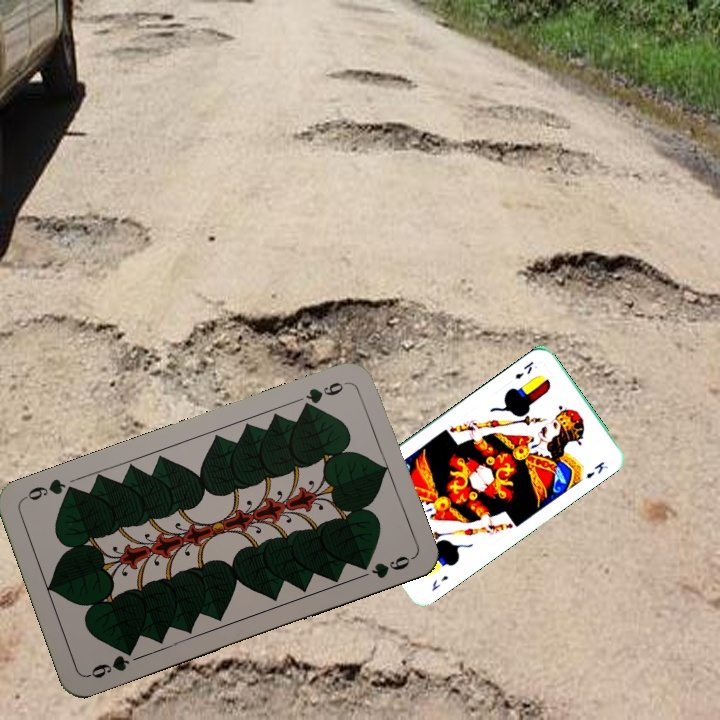EK: (511, 357, 536, 382), (427, 571, 451, 593)
G9: (84, 643, 137, 681), (297, 377, 350, 413)
